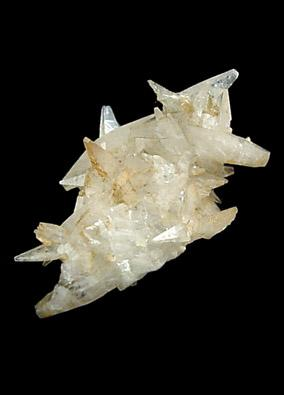prehnite: (15, 70, 270, 318)
